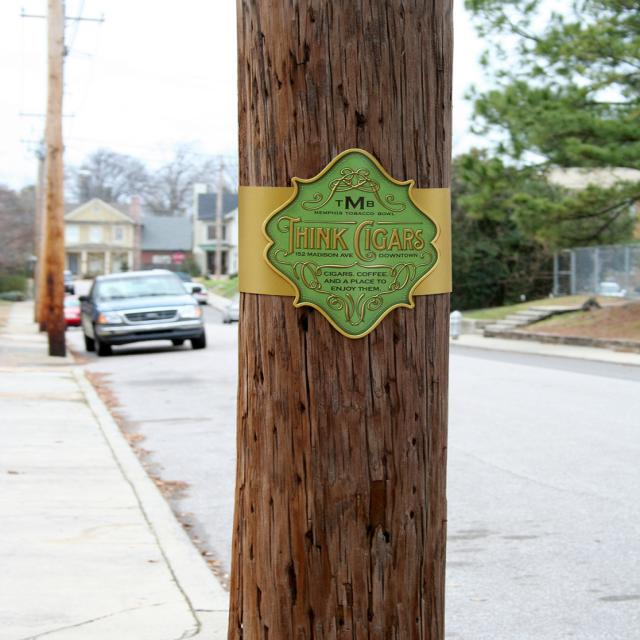car: (79, 265, 210, 348)
